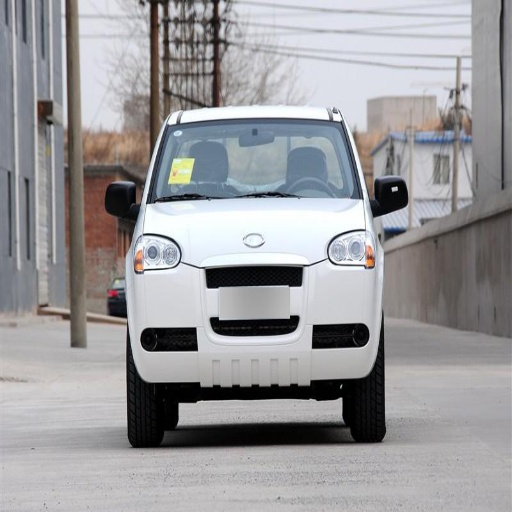front_bumper: (131, 254, 377, 385)
front_right_light: (135, 239, 181, 271)
hood: (146, 200, 362, 265)
left_mirror: (372, 176, 408, 215)
